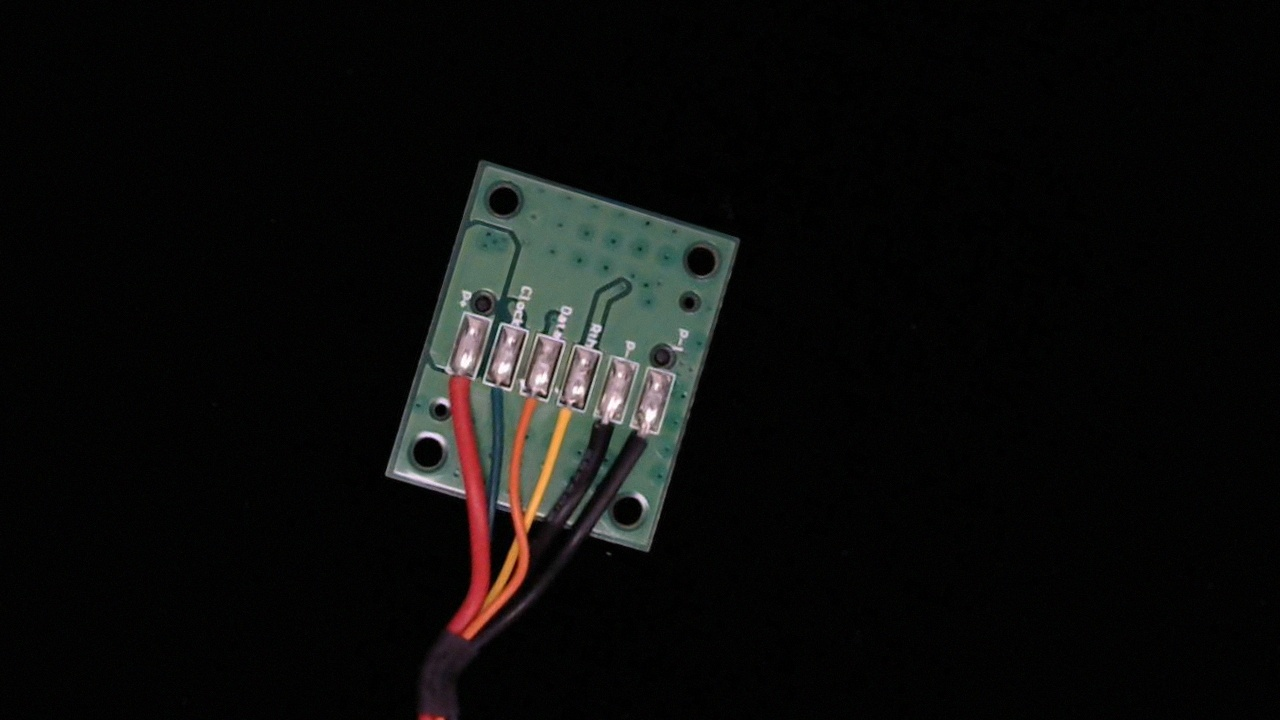Black: (575, 397, 629, 477)
Black1: (615, 410, 666, 484)
Green: (471, 362, 515, 426)
Orange: (502, 378, 553, 454)
Red: (429, 353, 483, 430)
Yellow: (537, 387, 592, 468)
